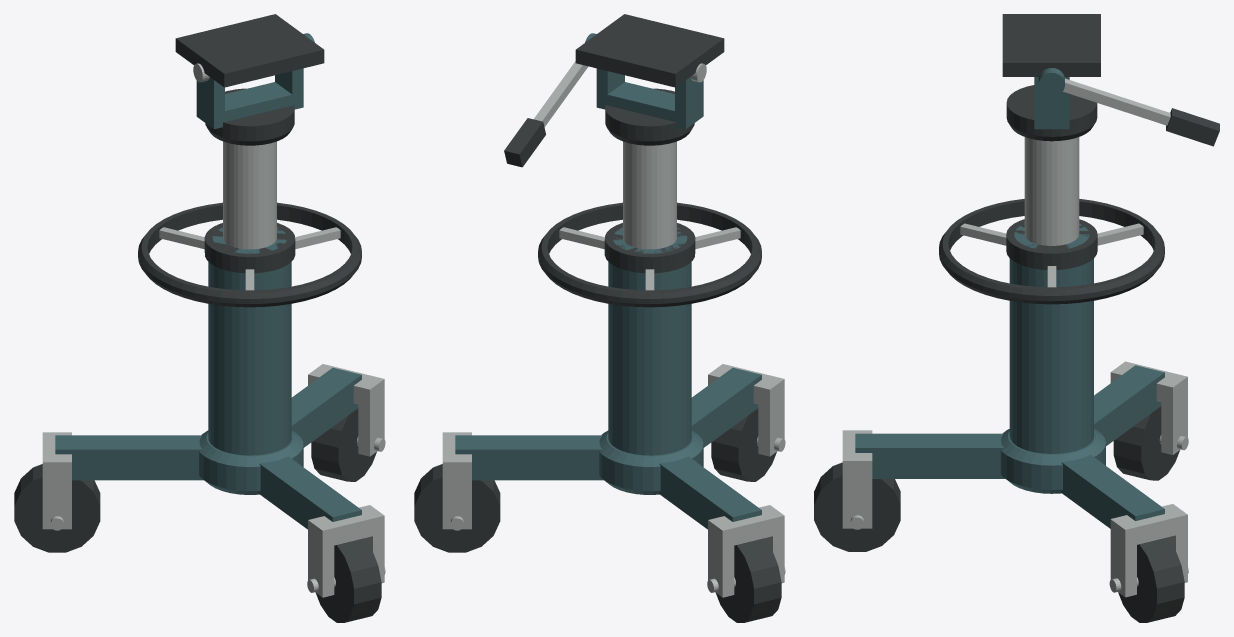
3 renders of one model, left to right at view 1: azimuth 30°, elevation 25°; view 2: azimuth 150°, elevation 25°; view 3: azimuth 270°, elevation 25°, orthographic.
Parts seen in each view (by area): view 1: WholeLowerColumnHousing, WholeHorizontalOpenSteeringRing, WholeEmptyCameraMountingPlate, WholeRadialLowArm_02, WholeUpperExtensionStem, WholeGroundFootFacetedCasterTyre_02, WholeRadialLowArm_00, WholeCasterBridgeFork_00, WholeOpenTiltHeadYoke, WholeGroundFootFacetedCasterTyre_00, WholeRadialLowArm_01, WholeCentralLowHub (+7 smaller); view 2: WholeLowerColumnHousing, WholeHorizontalOpenSteeringRing, WholeEmptyCameraMountingPlate, WholeRadialLowArm_01, WholeUpperExtensionStem, WholeGroundFootFacetedCasterTyre_01, WholeRadialLowArm_02, WholeCasterBridgeFork_02, WholeOpenTiltHeadYoke, WholeGroundFootFacetedCasterTyre_02, WholeRadialLowArm_00, WholeCentralLowHub (+9 smaller); view 3: WholeLowerColumnHousing, WholeHorizontalOpenSteeringRing, WholeRadialLowArm_00, WholeEmptyCameraMountingPlate, WholeUpperExtensionStem, WholeGroundFootFacetedCasterTyre_00, WholeRadialLowArm_01, WholeCasterBridgeFork_01, WholeGroundFootFacetedCasterTyre_01, WholeRadialLowArm_02, WholeCentralLowHub, WholeGroundFootFacetedCasterTyre_02 (+10 smaller).
Boxes of the visible parts, <box> form: WholeLowerColumnHousing: <box>208,227,291,455</box>; WholeHorizontalOpenSteeringRing: <box>138,202,361,307</box>; WholeEmptyCameraMountingPlate: <box>175,14,324,87</box>; WholeRadialLowArm_02: <box>55,435,203,480</box>; WholeUpperExtensionStem: <box>223,141,276,249</box>; WholeGroundFootFacetedCasterTyre_02: <box>14,464,100,552</box>; WholeRadialLowArm_00: <box>258,456,361,529</box>; WholeCasterBridgeFork_00: <box>308,505,384,597</box>; WholeOpenTiltHeadYoke: <box>196,68,303,129</box>; WholeGroundFootFacetedCasterTyre_00: <box>316,538,381,622</box>; WholeRadialLowArm_01: <box>291,367,361,447</box>; WholeCentralLowHub: <box>199,430,303,494</box>; WholeLowerColumnHousing: <box>608,227,691,455</box>; WholeHorizontalOpenSteeringRing: <box>538,202,761,307</box>; WholeEmptyCameraMountingPlate: <box>575,14,724,87</box>; WholeRadialLowArm_01: <box>455,435,603,480</box>; WholeUpperExtensionStem: <box>623,141,676,249</box>; WholeGroundFootFacetedCasterTyre_01: <box>414,464,500,552</box>; WholeRadialLowArm_02: <box>658,456,761,529</box>; WholeCasterBridgeFork_02: <box>708,505,784,597</box>; WholeOpenTiltHeadYoke: <box>596,68,703,129</box>; WholeGroundFootFacetedCasterTyre_02: <box>716,538,781,622</box>; WholeRadialLowArm_00: <box>691,367,761,447</box>; WholeCentralLowHub: <box>599,430,703,494</box>; WholeLowerColumnHousing: <box>1009,223,1093,453</box>; WholeHorizontalOpenSteeringRing: <box>939,199,1164,304</box>; WholeRadialLowArm_00: <box>855,433,1005,478</box>; WholeEmptyCameraMountingPlate: <box>1002,14,1100,76</box>; WholeUpperExtensionStem: <box>1024,137,1079,245</box>; WholeGroundFootFacetedCasterTyre_00: <box>814,462,900,551</box>; WholeRadialLowArm_01: <box>1060,454,1164,528</box>; WholeCasterBridgeFork_01: <box>1110,504,1187,597</box>; WholeGroundFootFacetedCasterTyre_01: <box>1118,537,1184,622</box>; WholeRadialLowArm_02: <box>1094,365,1164,445</box>; WholeCentralLowHub: <box>1000,428,1105,493</box>; WholeGroundFootFacetedCasterTyre_02: <box>1113,406,1179,480</box>.
Bounding box in the file's own units: 1.07 × 1.39 × 1.01.
